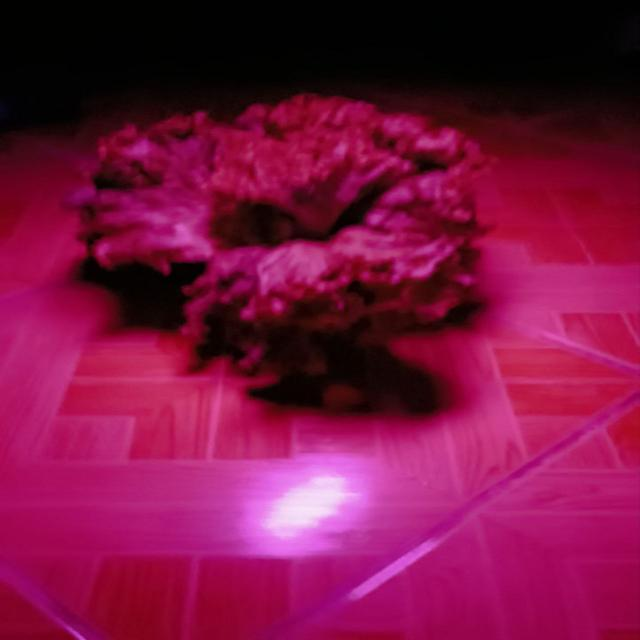Lettuce-Ready-to-Harvest: (75, 95, 486, 412)
